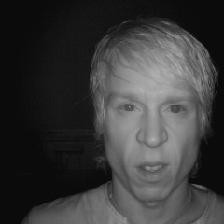sad: (92, 32, 207, 202)
